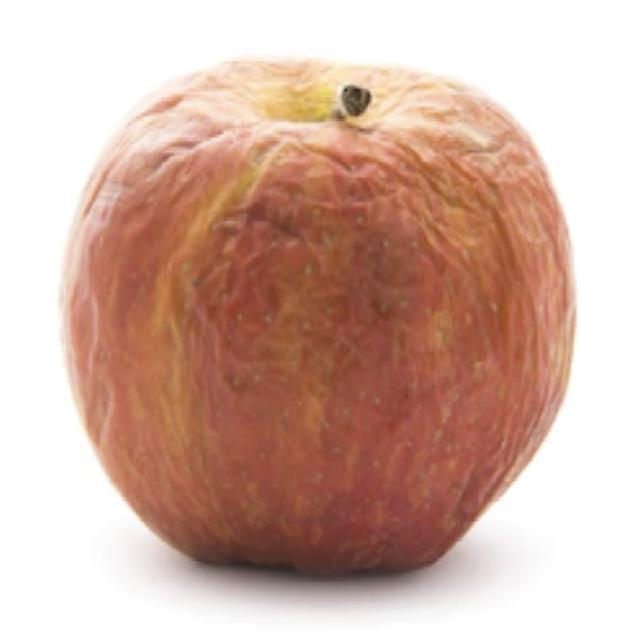Rotten: (62, 57, 573, 578)
